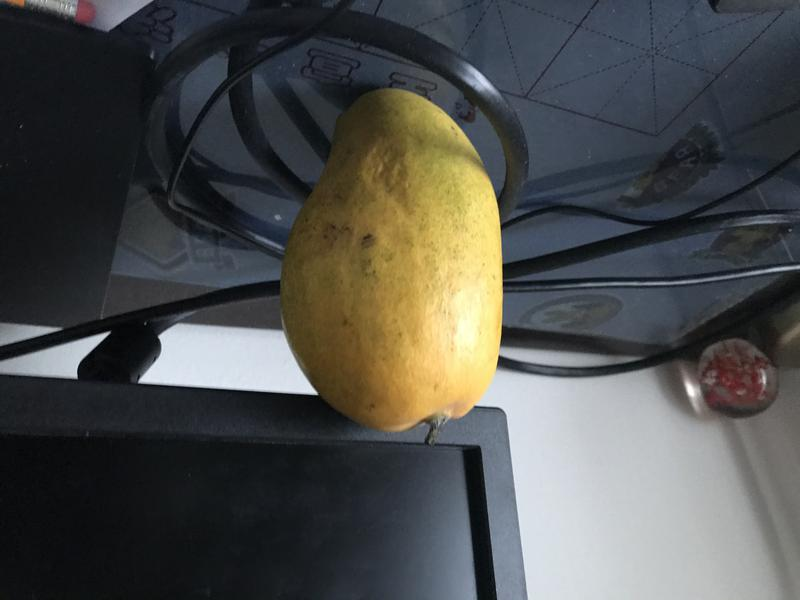w: (272, 65, 510, 462)
